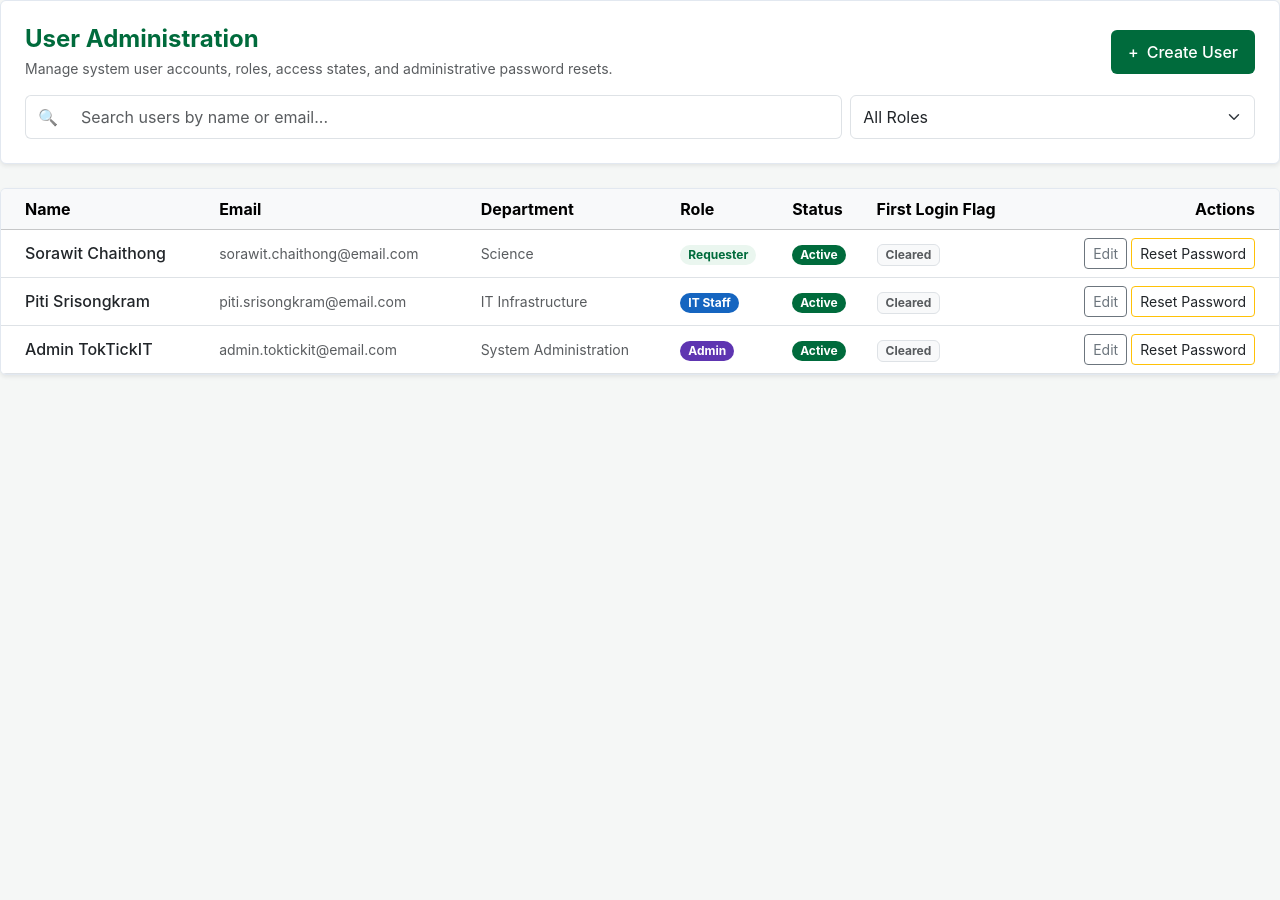
Scenario: UserManagement Component (UI-07 / AC-20..22, BR-16..21) › UI-07 / AC-21: displays guardrail error when self-deactivation is rejected (CANNOT_DEACTIVATE_SELF)
The image size is (1280, 900).
Edit adminUser (id 10) who is currentUser
What coordinates should you click on to do the following:
click the button with test id "btn-edit-user-10"
I would click on:
 (1106, 349)
Its box is [1084,334,1127,365].
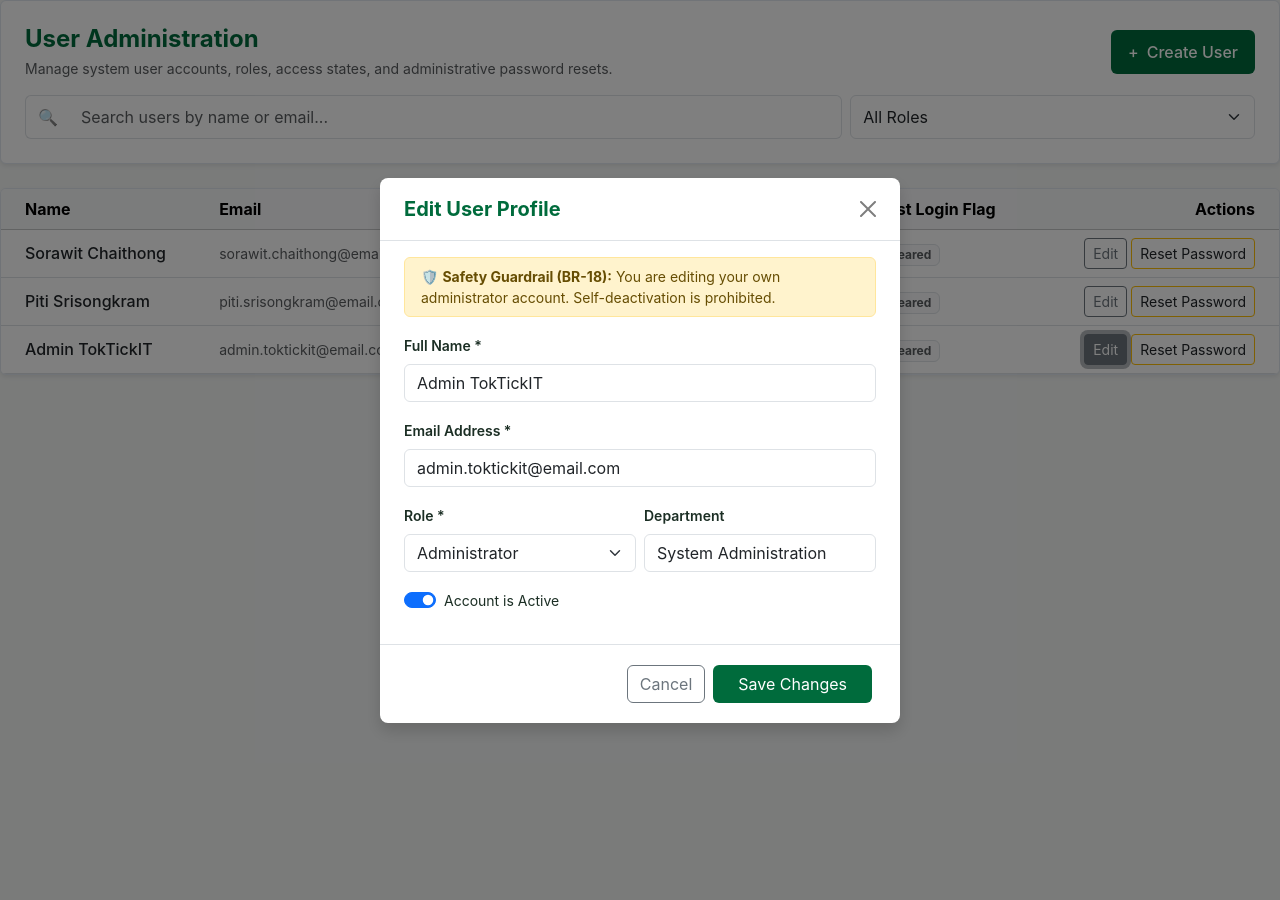
Expected: the element with test id "self-edit-warning" is shown, [404,256,876,316]
What coordinates should you click on to do the following:
click the button with test id "btn-submit-edit-user"
I would click on:
 (793, 684)
Its box is [713,664,872,702].
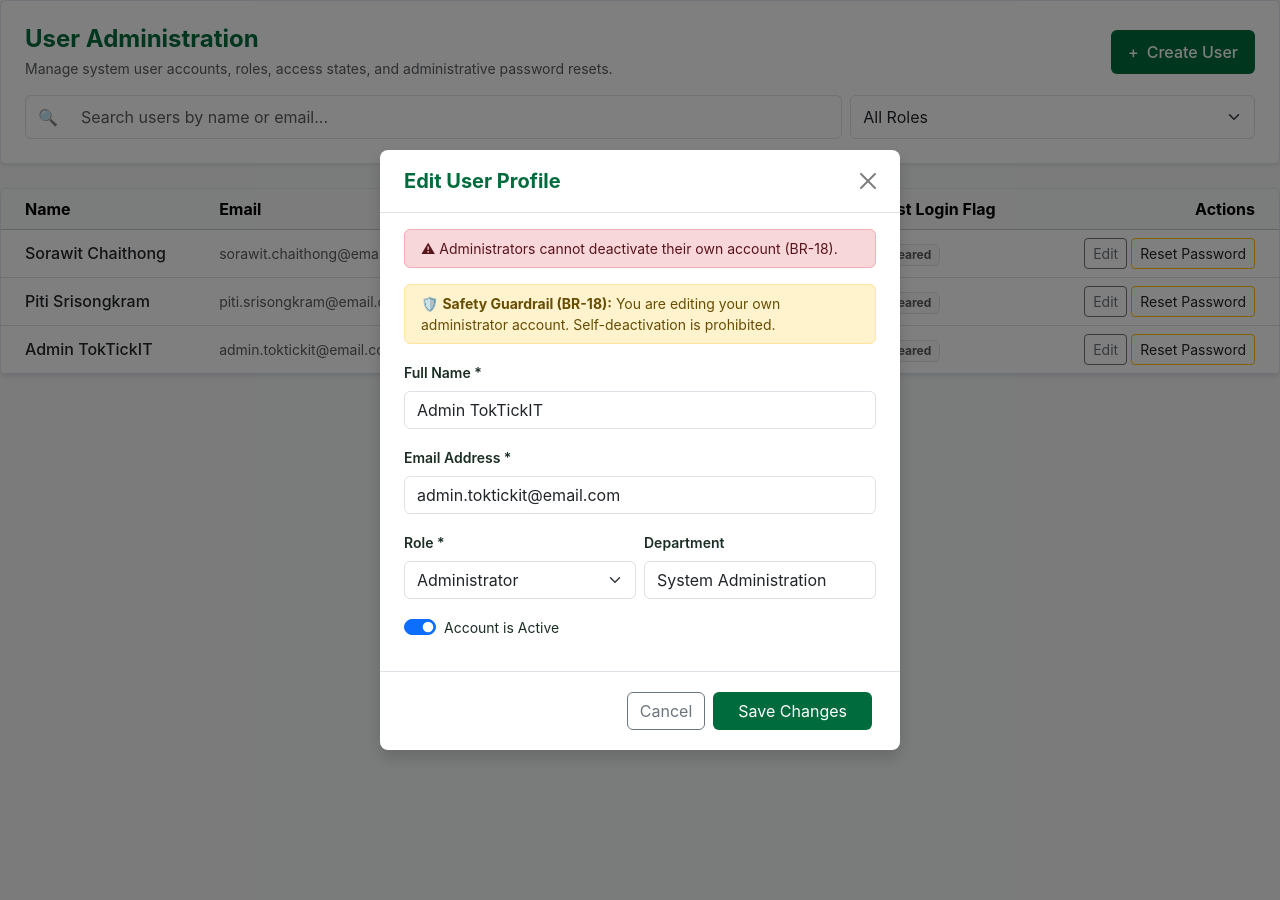
Expected: the text with test id "edit-user-error" shows "Administrators cannot deactivate their own account", [439,240,838,257]
